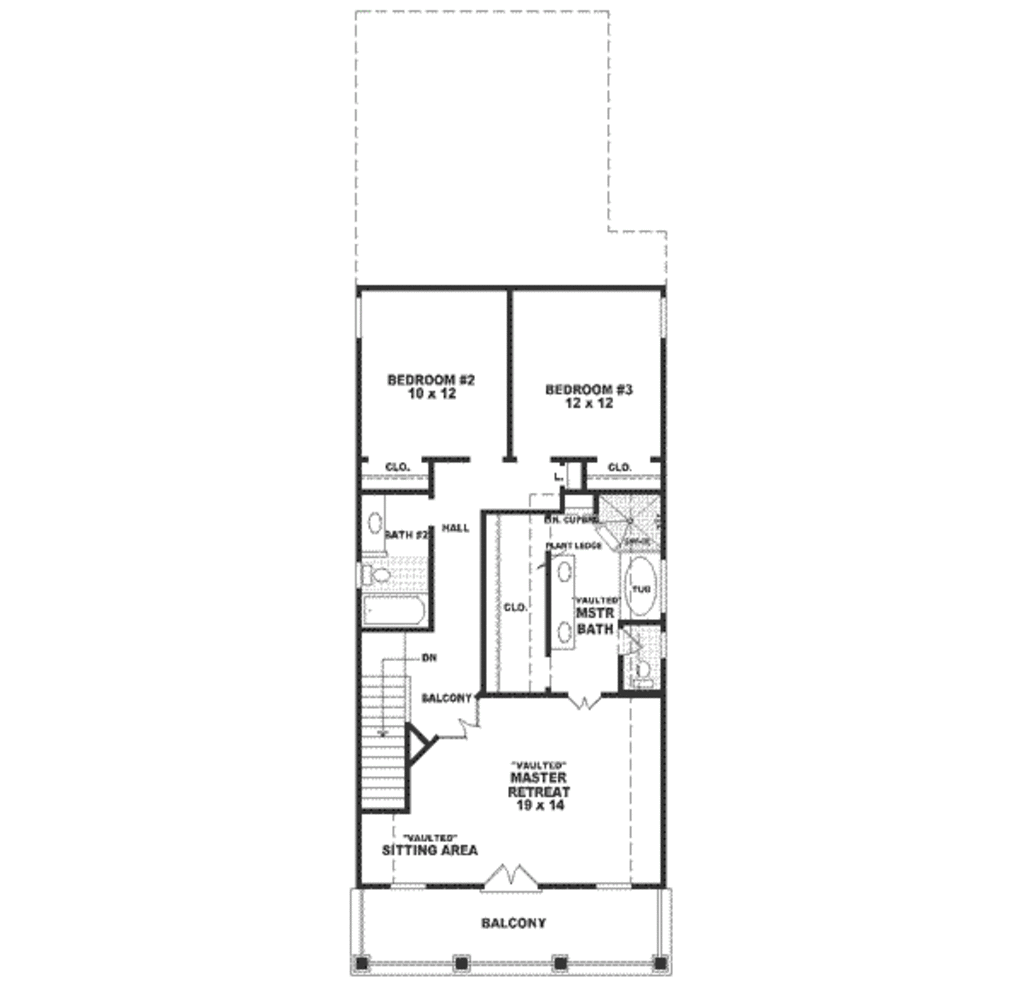door: (480, 858, 543, 898), (440, 701, 482, 747), (569, 689, 597, 713)
large_sink: (360, 558, 396, 592), (629, 660, 656, 690)
small_sink: (553, 552, 577, 652), (362, 494, 392, 548)
stairs: (360, 631, 409, 816)
tub: (618, 550, 665, 619), (359, 594, 429, 625)
windows: (385, 874, 430, 896), (350, 291, 369, 340), (655, 295, 671, 345), (588, 879, 632, 892)
